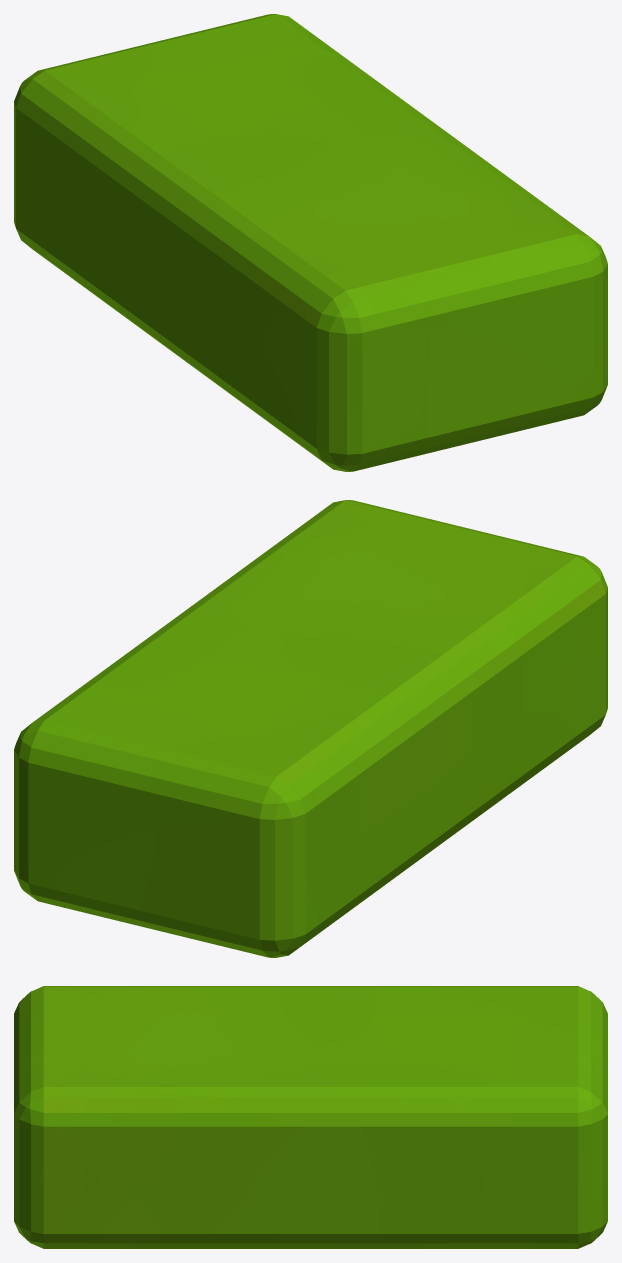
File: ShortBlockGreen.fbx
3 views of the same model, one above another, from view 1: azimuth 30°, elevation 25°; view 2: azimuth 150°, elevation 25°; view 3: azimuth 270°, elevation 25° (orthographic). The views are drawn at different scales.
Visible parts, largest first — view 1: ShortBlock; view 2: ShortBlock; view 3: ShortBlock.
Part boxes in pixels (<box>): ShortBlock: <box>14,14,607,471</box>; ShortBlock: <box>14,500,607,957</box>; ShortBlock: <box>14,986,607,1248</box>.
Size of the model in its own units: 2 by 1.2 by 4.
